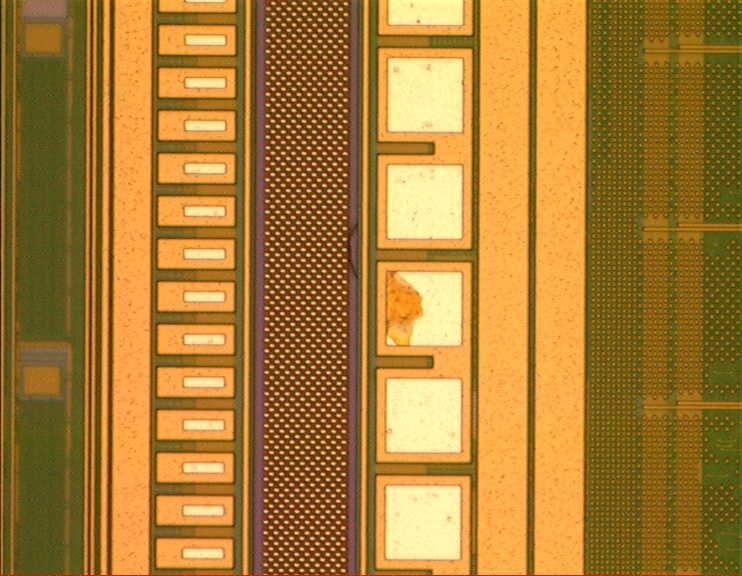BLOCK ETCH: (341, 218, 427, 351)
